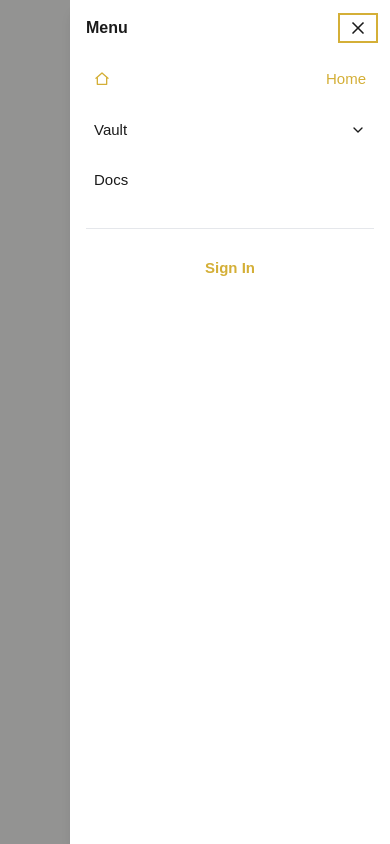
it: MobileNav › expands and collapses a parent item to reveal its children
The width and height of the screenshot is (390, 844).
Expected: the link "Passbook" is not shown
Step 1. Click the button "Vault" → (111, 129), box [86,106,374,153]
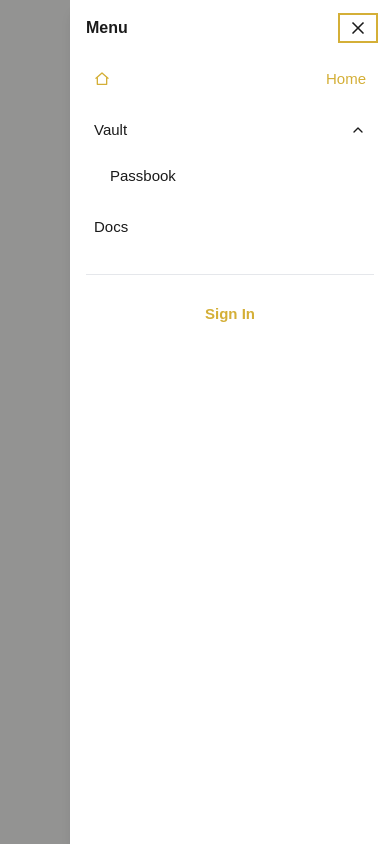
Result: the button "Vault" is expanded
Step 2. Click the button "Vault" → (111, 129), box [86,106,374,153]
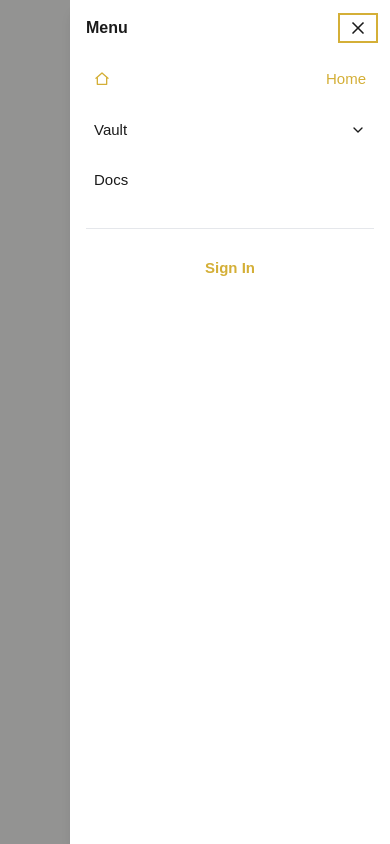
Result: the link "Passbook" is gone
